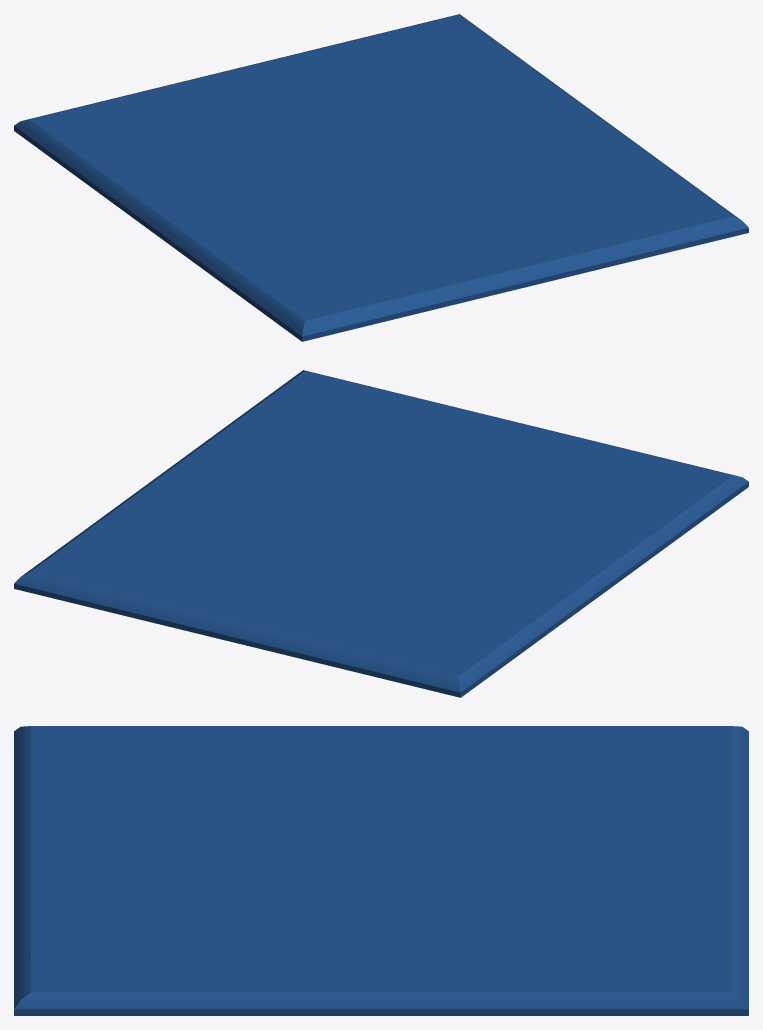
File: VrStandingPad.fbx
3 views of the same model, one above another, from view 1: azimuth 30°, elevation 25°; view 2: azimuth 150°, elevation 25°; view 3: azimuth 270°, elevation 25° (orthographic). The views are drawn at different scales.
Parts seen in each view (by area): view 1: VRPad; view 2: VRPad; view 3: VRPad.
Boxes of the visible parts, bbox=[...] form: VRPad: bbox=[14, 14, 748, 341]; VRPad: bbox=[14, 370, 748, 697]; VRPad: bbox=[14, 726, 748, 1015].
Size of the model in its own units: 58.41 by 1.74 by 65.27.
